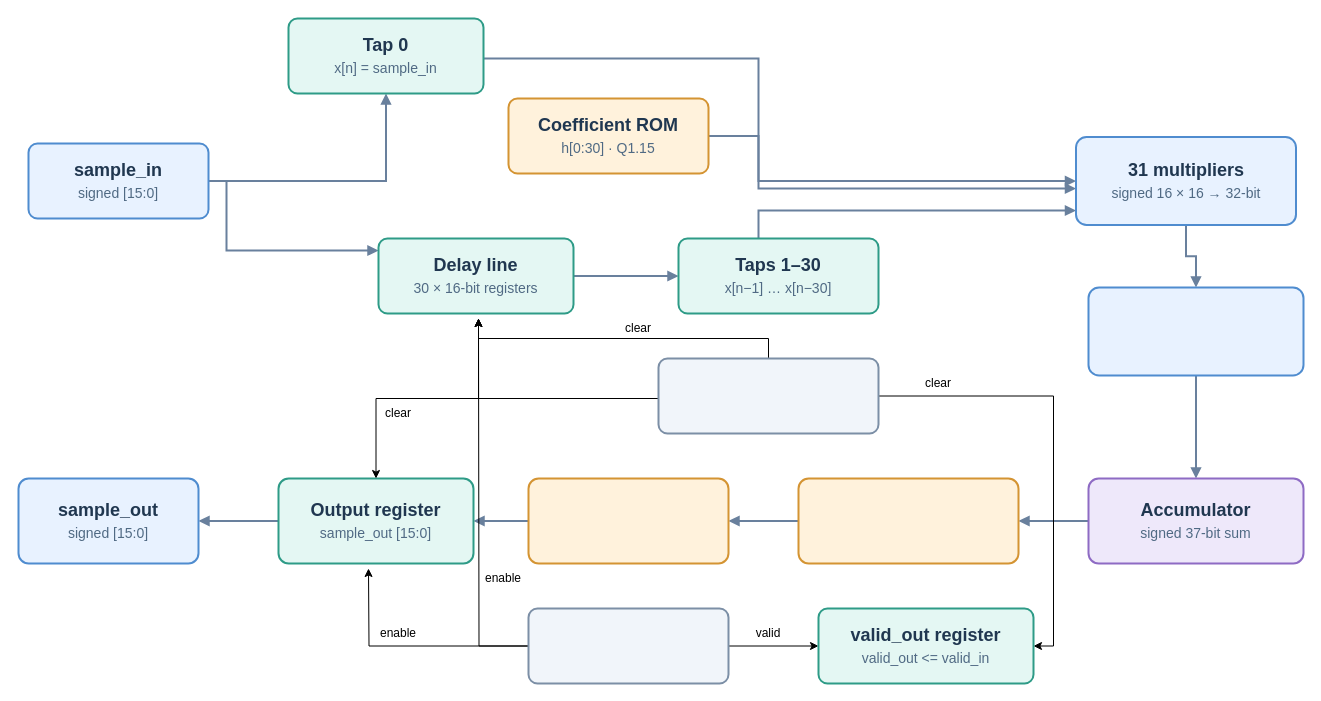
Some shapes in this 1321 by 701 pixel diagram are drawn without their labels. Here are the shapes that lost their labels. From the top down, the centre of each, then its label:
At (x=1195, y=331): "Sign extension 32-bit → 37-bit".
At (x=768, y=395): "rst synchronous active-high".
At (x=628, y=520): "Saturate16 clamp to signed 16-bit".
At (x=908, y=520): "Arithmetic shift accumulator >>> 15".
At (x=628, y=645): "valid_in sample / history enable".
